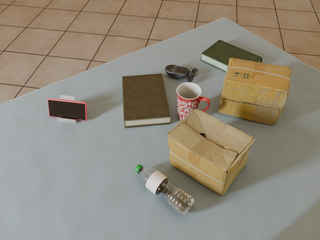book: (122, 74, 171, 128), (201, 40, 262, 72)
bottle: (135, 165, 194, 215)
box: (167, 109, 255, 196), (219, 58, 291, 125)
cup: (177, 82, 210, 121)
mouse: (165, 65, 198, 82)
phone: (48, 98, 87, 121)
